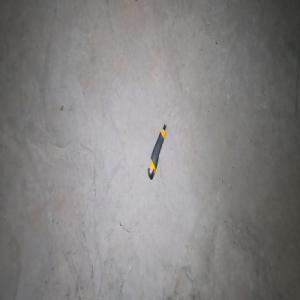Cutter: (147, 123, 167, 180)
